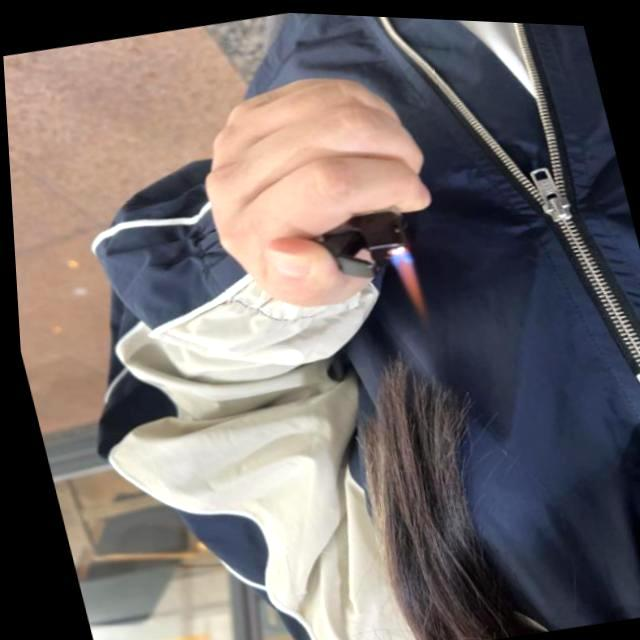fire: (384, 240, 424, 322)
